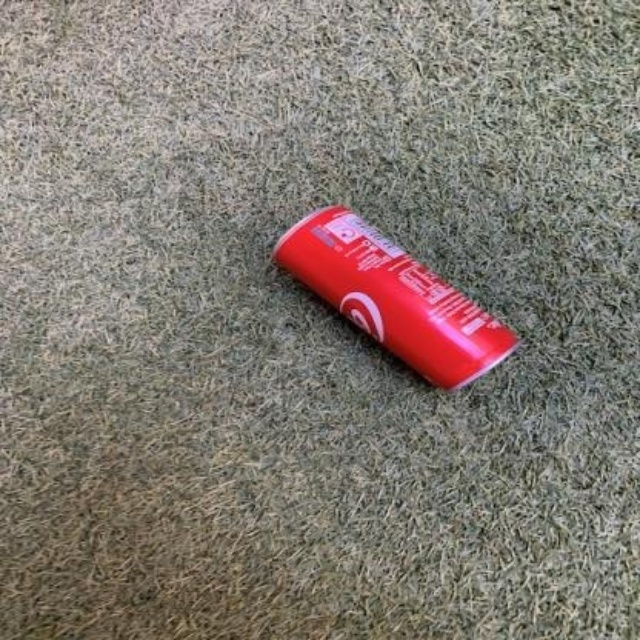trash: (272, 206, 515, 388)
